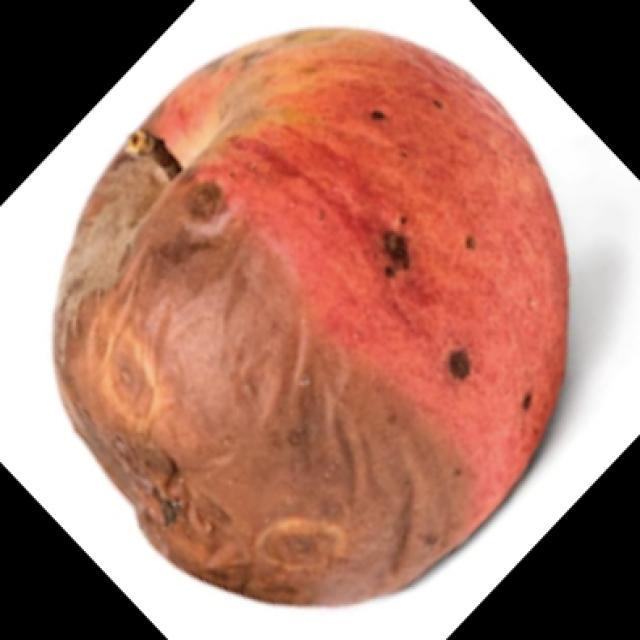Rotten: (94, 23, 558, 595)
